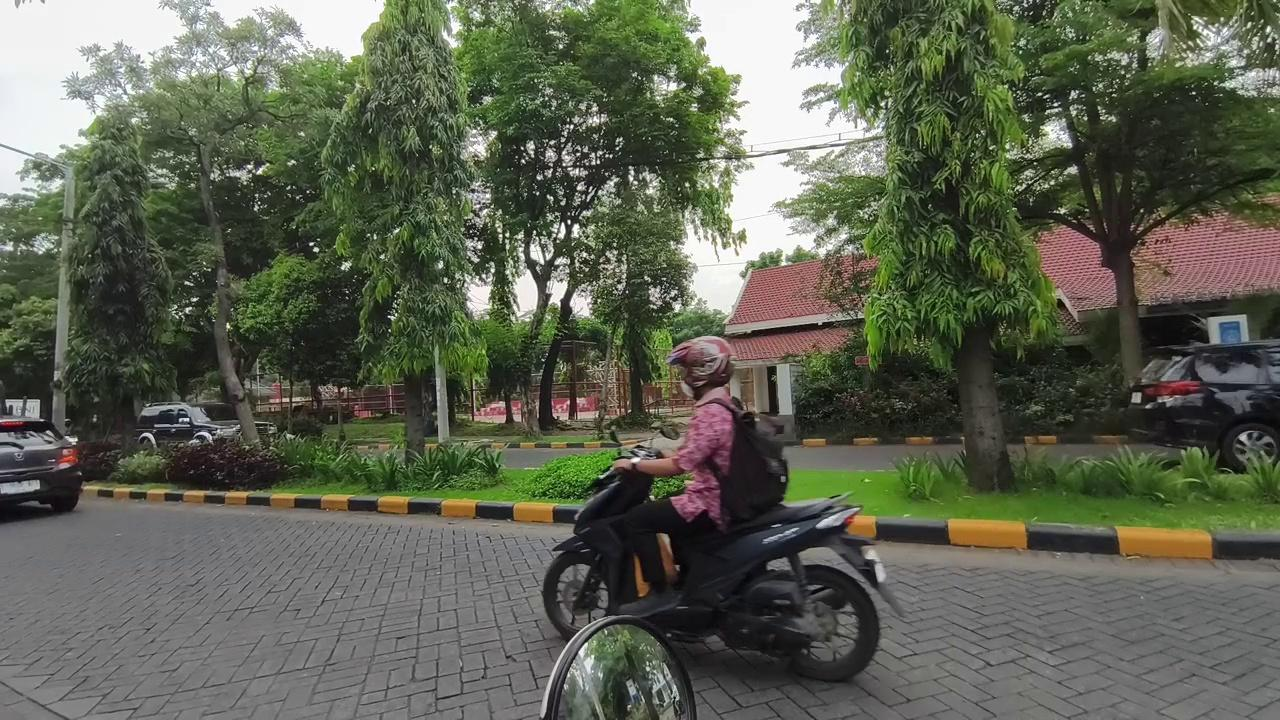Helmet: (614, 336, 734, 615)
Motor: (646, 494, 900, 680), (539, 617, 695, 719)
